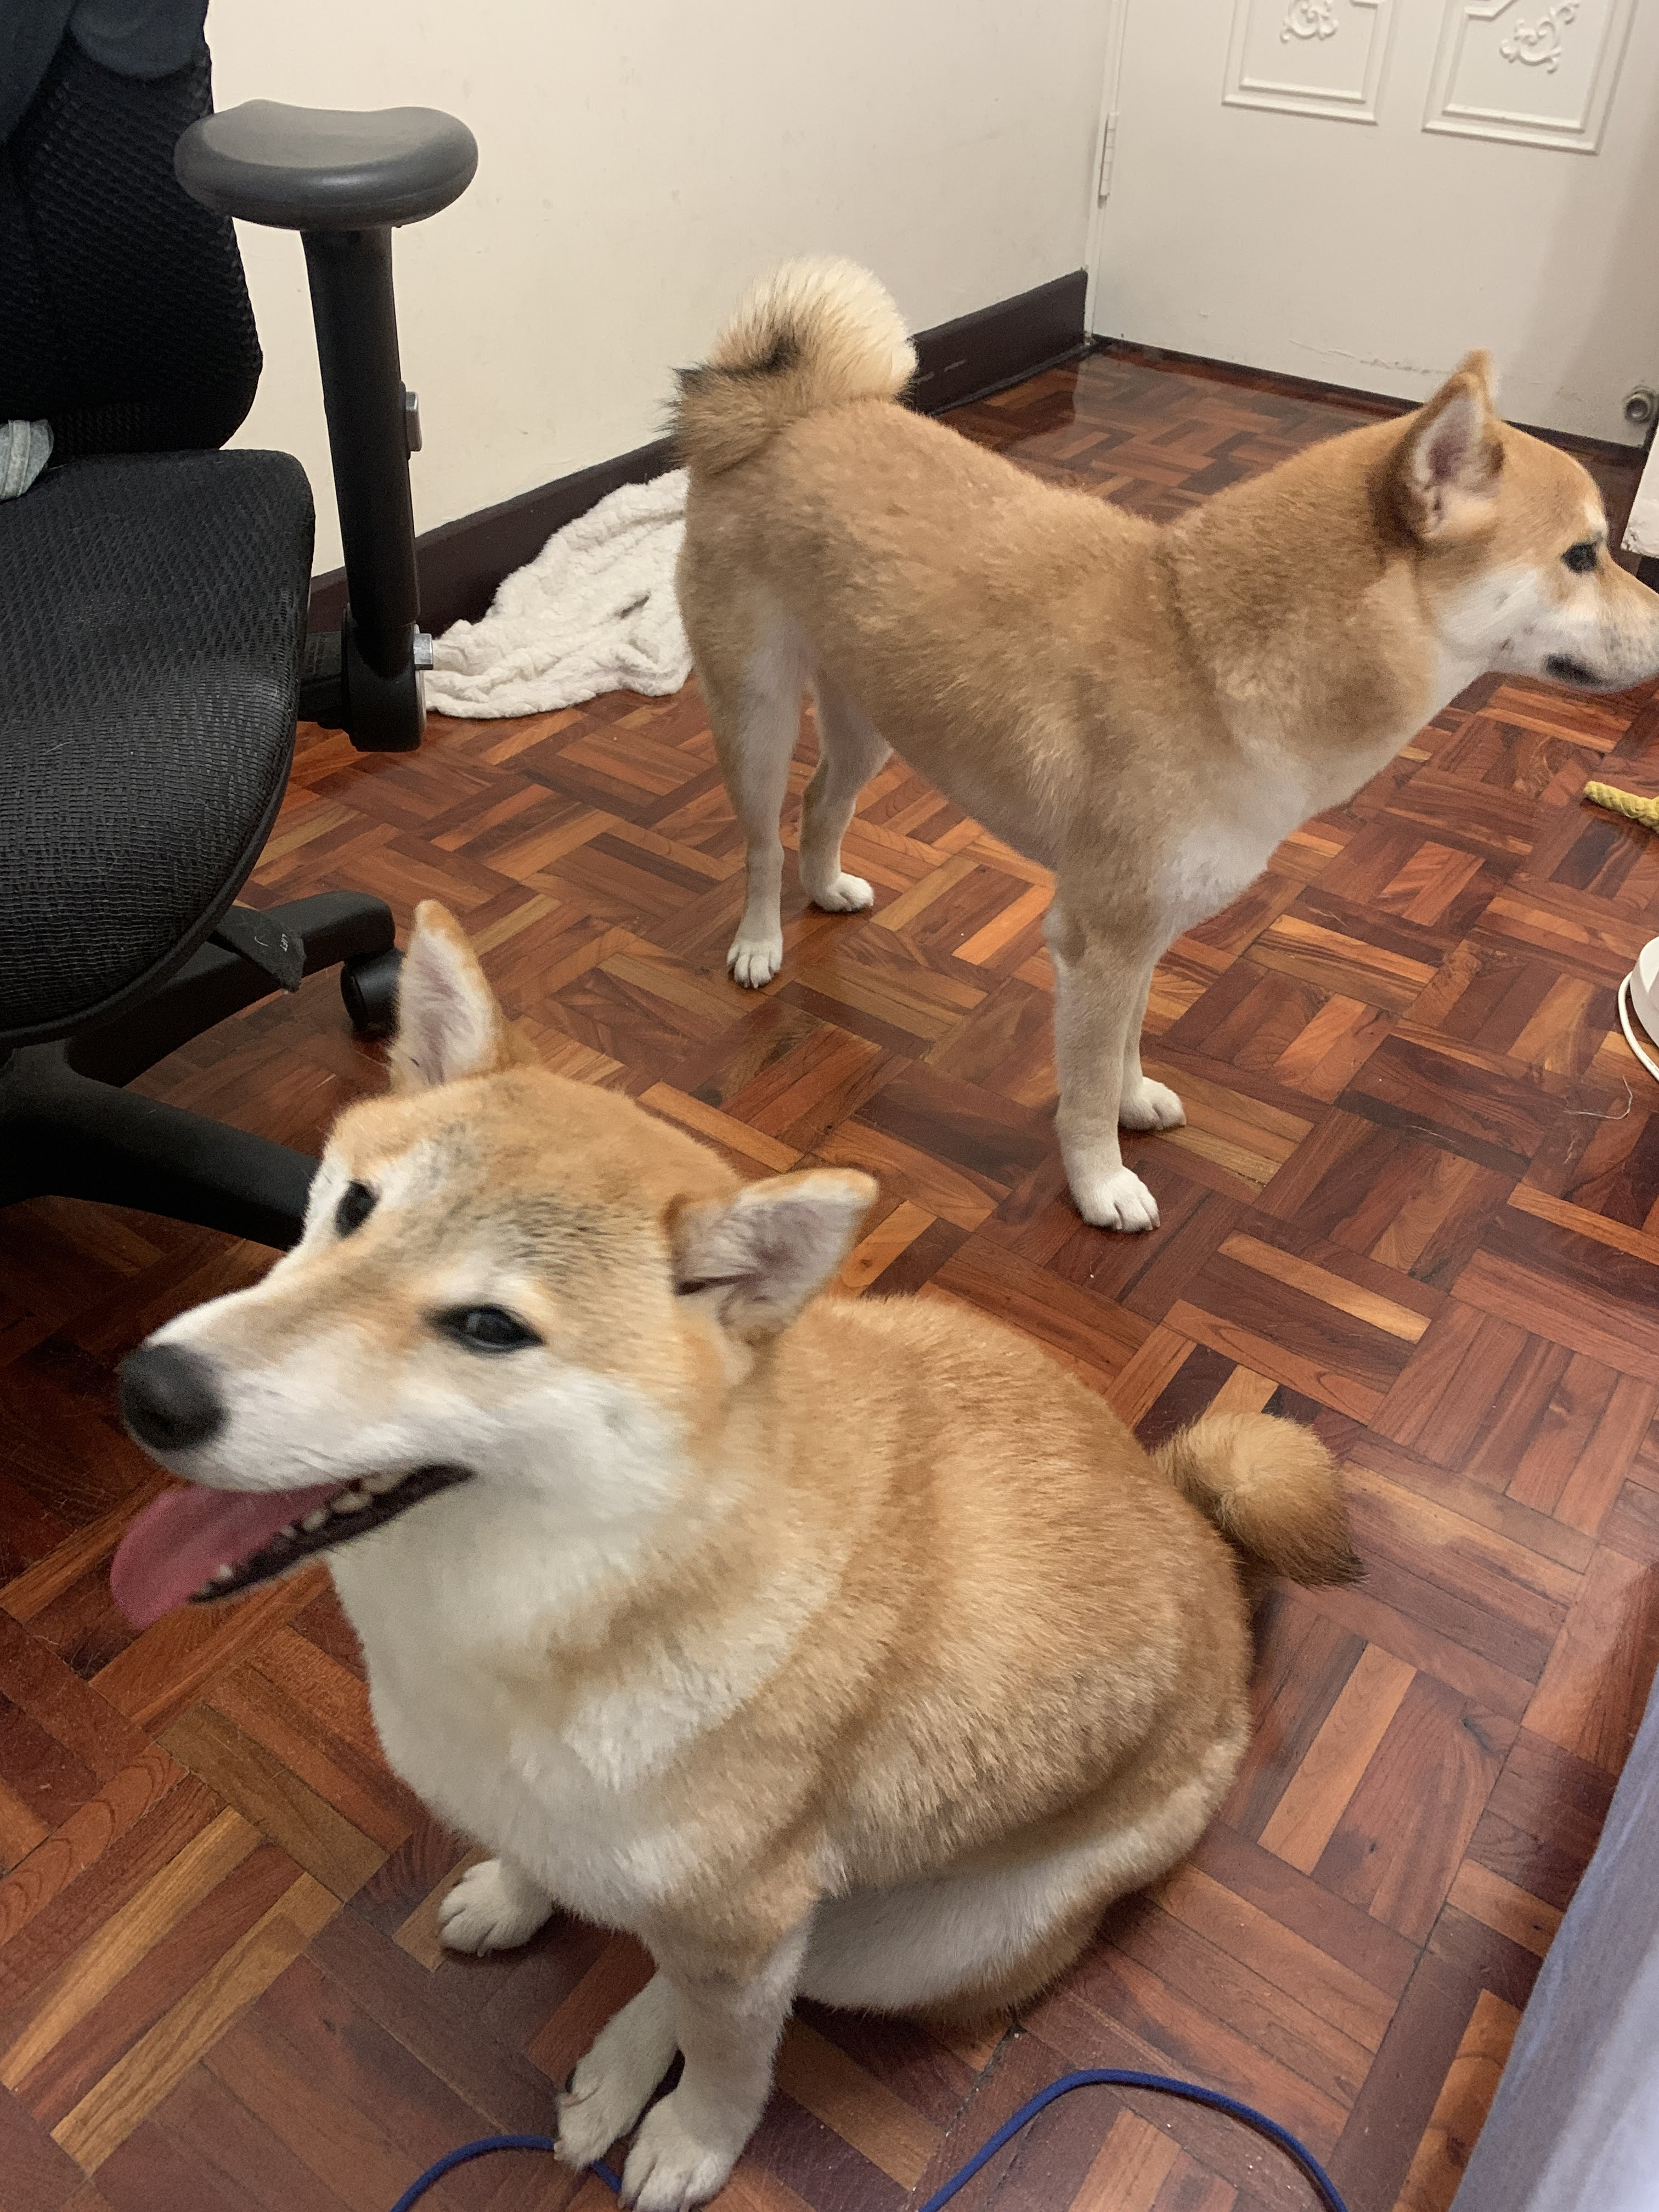Sit down: (110, 899, 1358, 2179)
Stand up: (619, 237, 1659, 1181)
